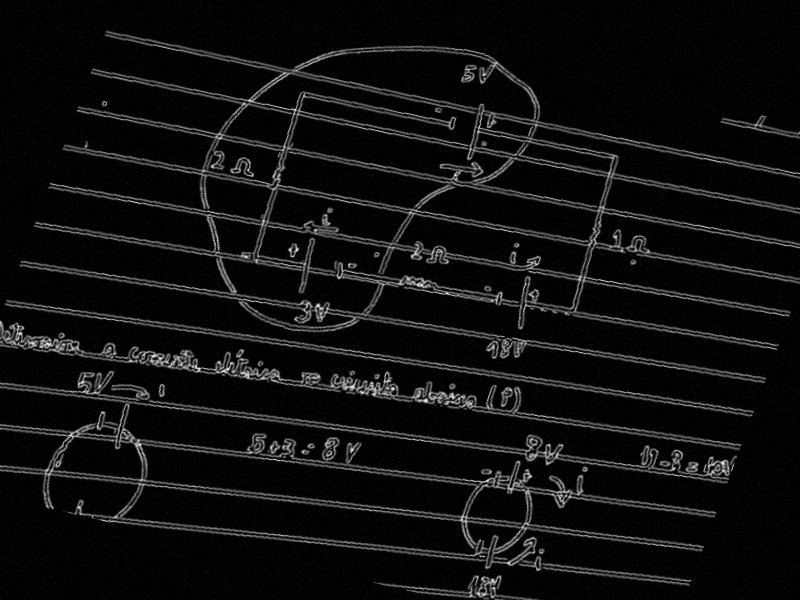-: (478, 467, 494, 477), (657, 458, 672, 468), (684, 465, 699, 475), (686, 459, 700, 469), (305, 442, 317, 452), (346, 261, 359, 270), (482, 284, 495, 293), (432, 106, 444, 114), (300, 448, 311, 456)
0: (707, 458, 726, 479)
1: (604, 225, 630, 253), (461, 572, 486, 600), (480, 337, 504, 362), (634, 442, 655, 466), (700, 454, 719, 478)
2: (205, 148, 231, 174), (406, 238, 430, 263)
3: (290, 297, 316, 325), (664, 447, 688, 475), (276, 436, 301, 462), (472, 574, 494, 600), (496, 334, 516, 362), (641, 446, 662, 471)
5: (70, 367, 98, 399), (243, 429, 271, 457), (458, 61, 482, 86)
8: (518, 433, 546, 463), (317, 433, 344, 463)
V: (535, 438, 567, 469), (87, 365, 116, 399), (338, 437, 364, 466), (482, 571, 507, 600), (308, 297, 333, 325), (473, 60, 497, 86), (717, 451, 738, 478), (507, 336, 529, 360)
p: (494, 385, 516, 410)
